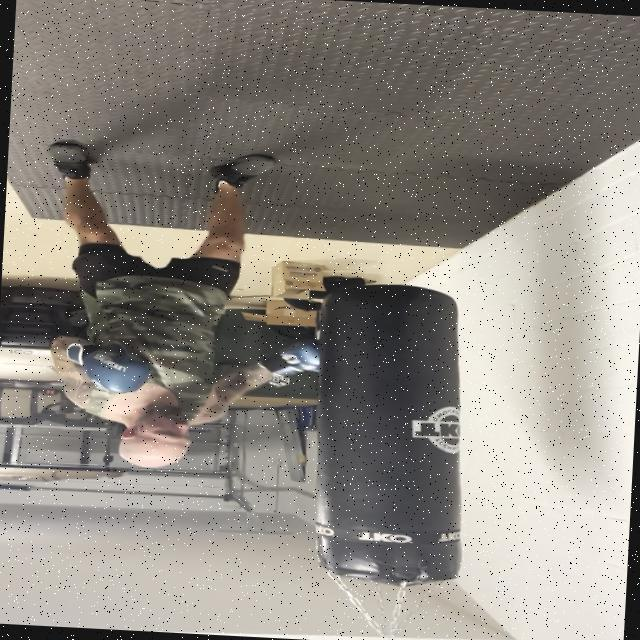bag: (301, 280, 488, 592)
hook: (51, 316, 338, 488)
